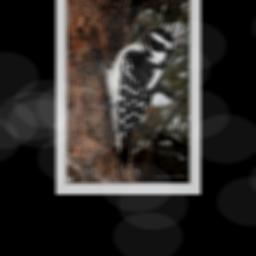Woodpecker: (92, 28, 176, 174)
